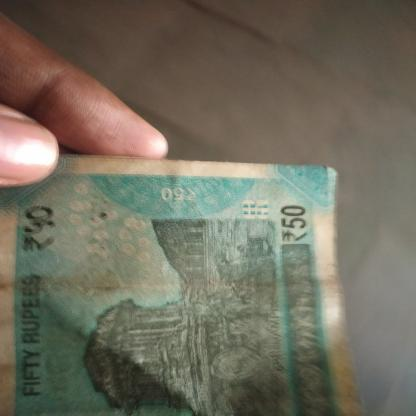New50Back: (0, 155, 323, 416)
